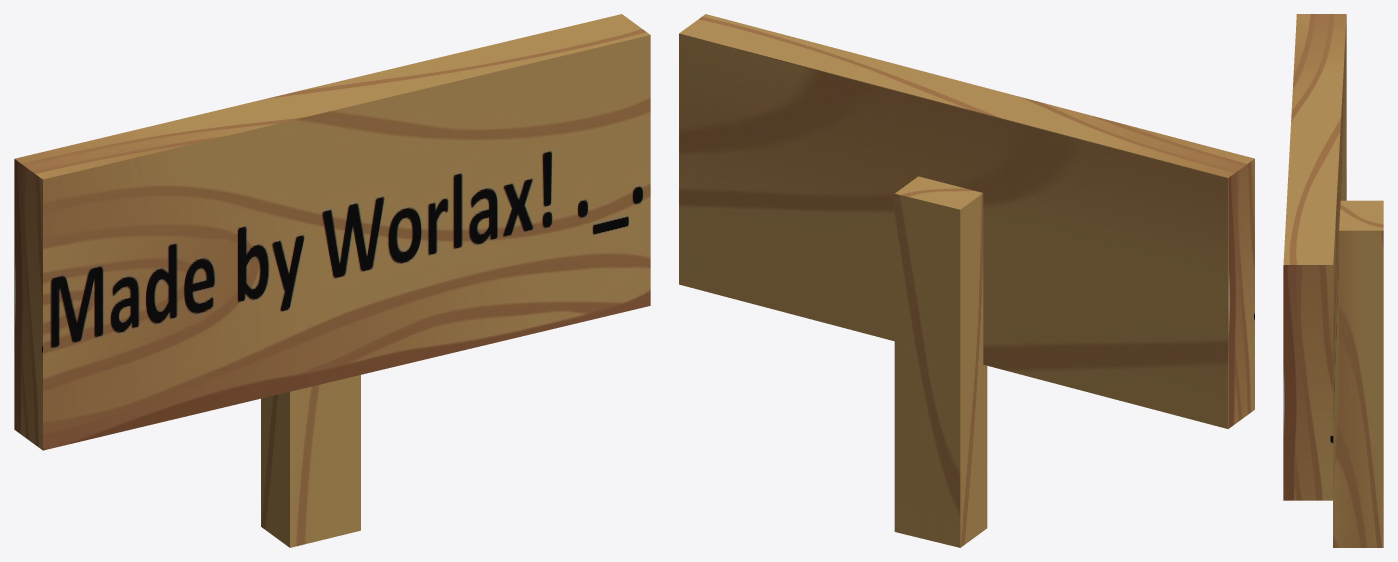
The model's file is madeByMe.fbx.
The picture shows the model from 3 angles, left to right: view 1: azimuth 30°, elevation 25°; view 2: azimuth 150°, elevation 25°; view 3: azimuth 270°, elevation 25°; orthographic projection. The views are drawn at different scales.
Parts seen in each view (by area): view 1: Cube.003; view 2: Cube.003; view 3: Cube.003.
Boxes of the visible parts, x1,y1,x2,y2 form: Cube.003: [14, 14, 650, 547]; Cube.003: [679, 14, 1254, 547]; Cube.003: [1283, 14, 1383, 547].
Size of the model in its own units: 113 by 81.67 by 18.8.
